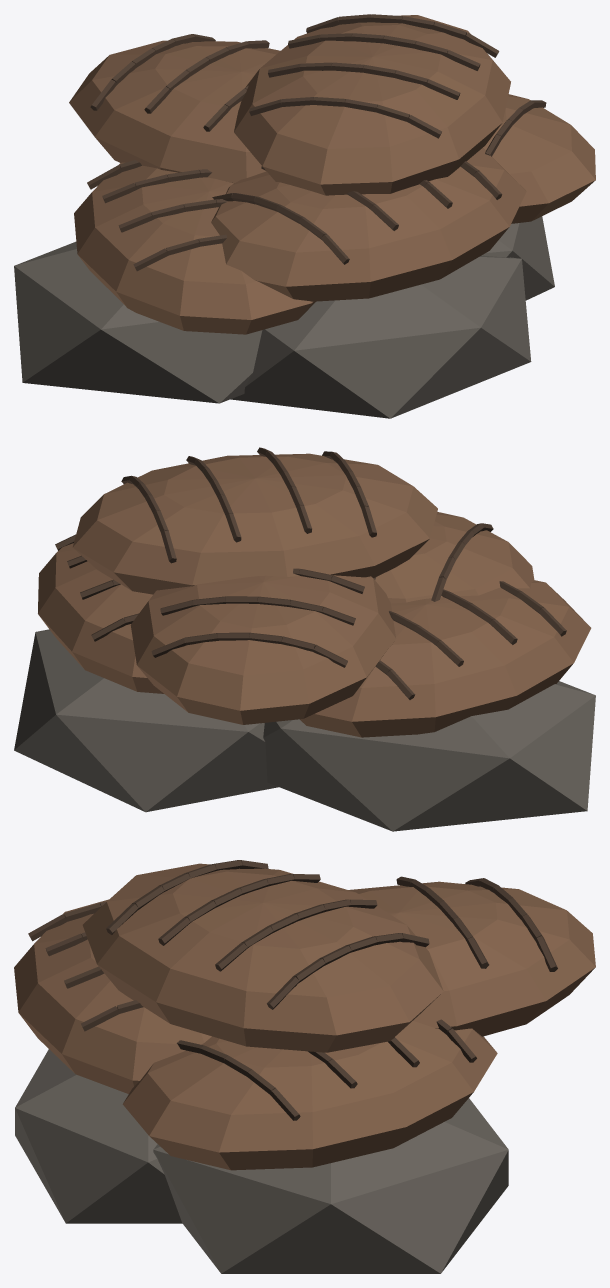
File: Deposit_Chitin.fbx
3 renders of one model, top to bottom at view 1: azimuth 30°, elevation 25°; view 2: azimuth 150°, elevation 25°; view 3: azimuth 270°, elevation 25°, orthographic. The views are drawn at different scales.
Parts seen in each view (by area): view 1: Deposit_Chitin; view 2: Deposit_Chitin; view 3: Deposit_Chitin.
Part boxes in pixels (<box>): Deposit_Chitin: <box>14,14,595,418</box>; Deposit_Chitin: <box>14,447,595,831</box>; Deposit_Chitin: <box>14,860,595,1273</box>.
Bounding box in the file's own units: 133 × 71.77 × 111.
